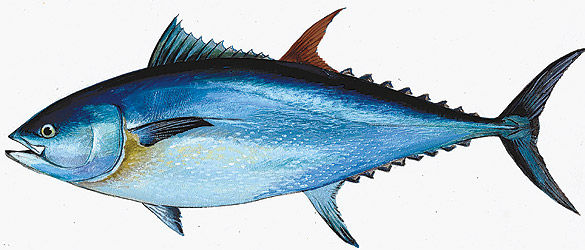Bluefina Tuna: (9, 24, 580, 227)
